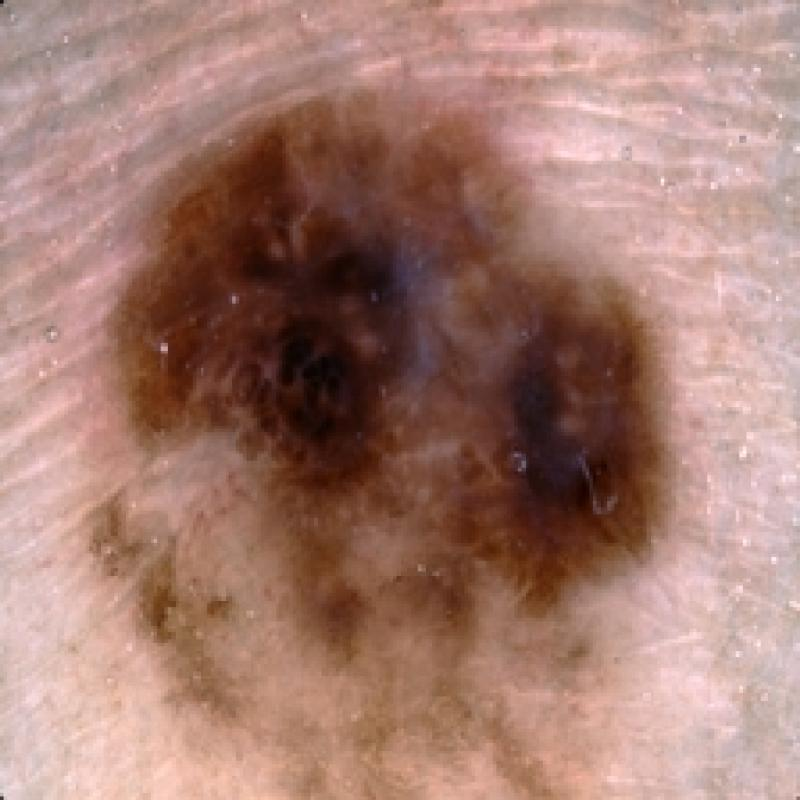malignant: (93, 87, 687, 762)
